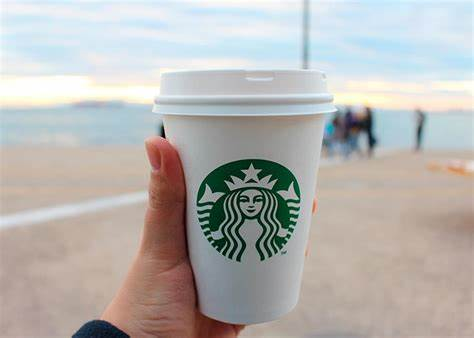starbucks Originale: (194, 153, 304, 269)
